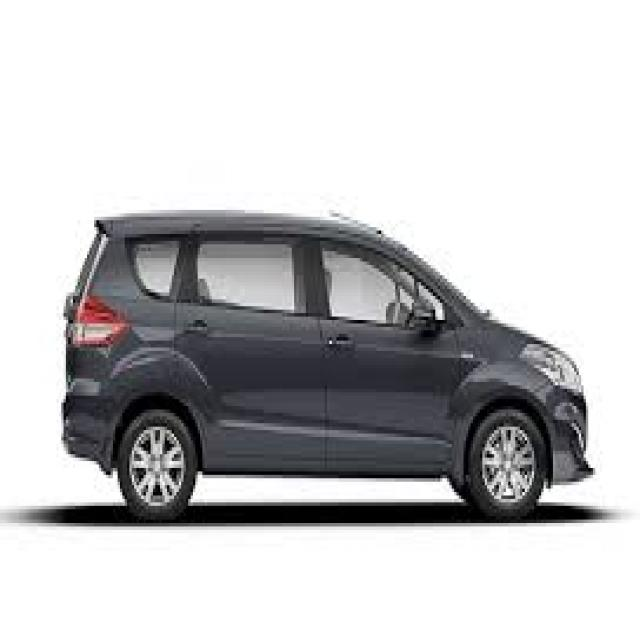Car: (57, 203, 599, 524)
